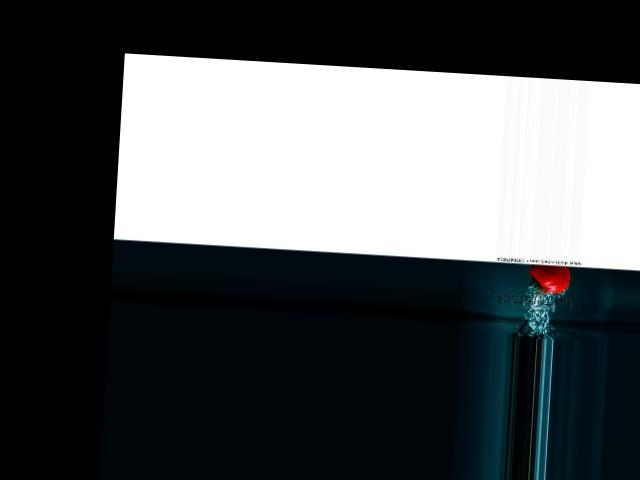tomato: (526, 263, 570, 294)
